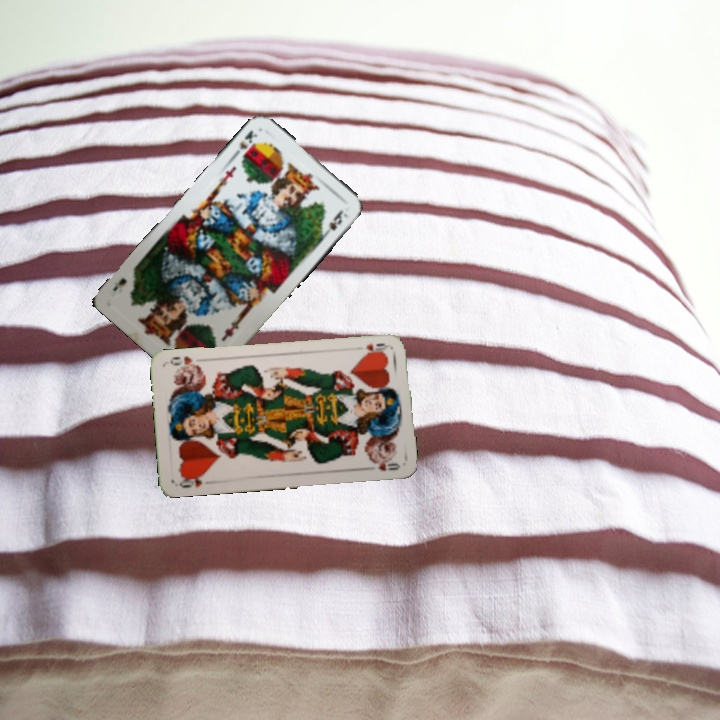HO: (175, 471, 208, 490), (359, 339, 393, 357)
SK: (235, 126, 260, 159)
